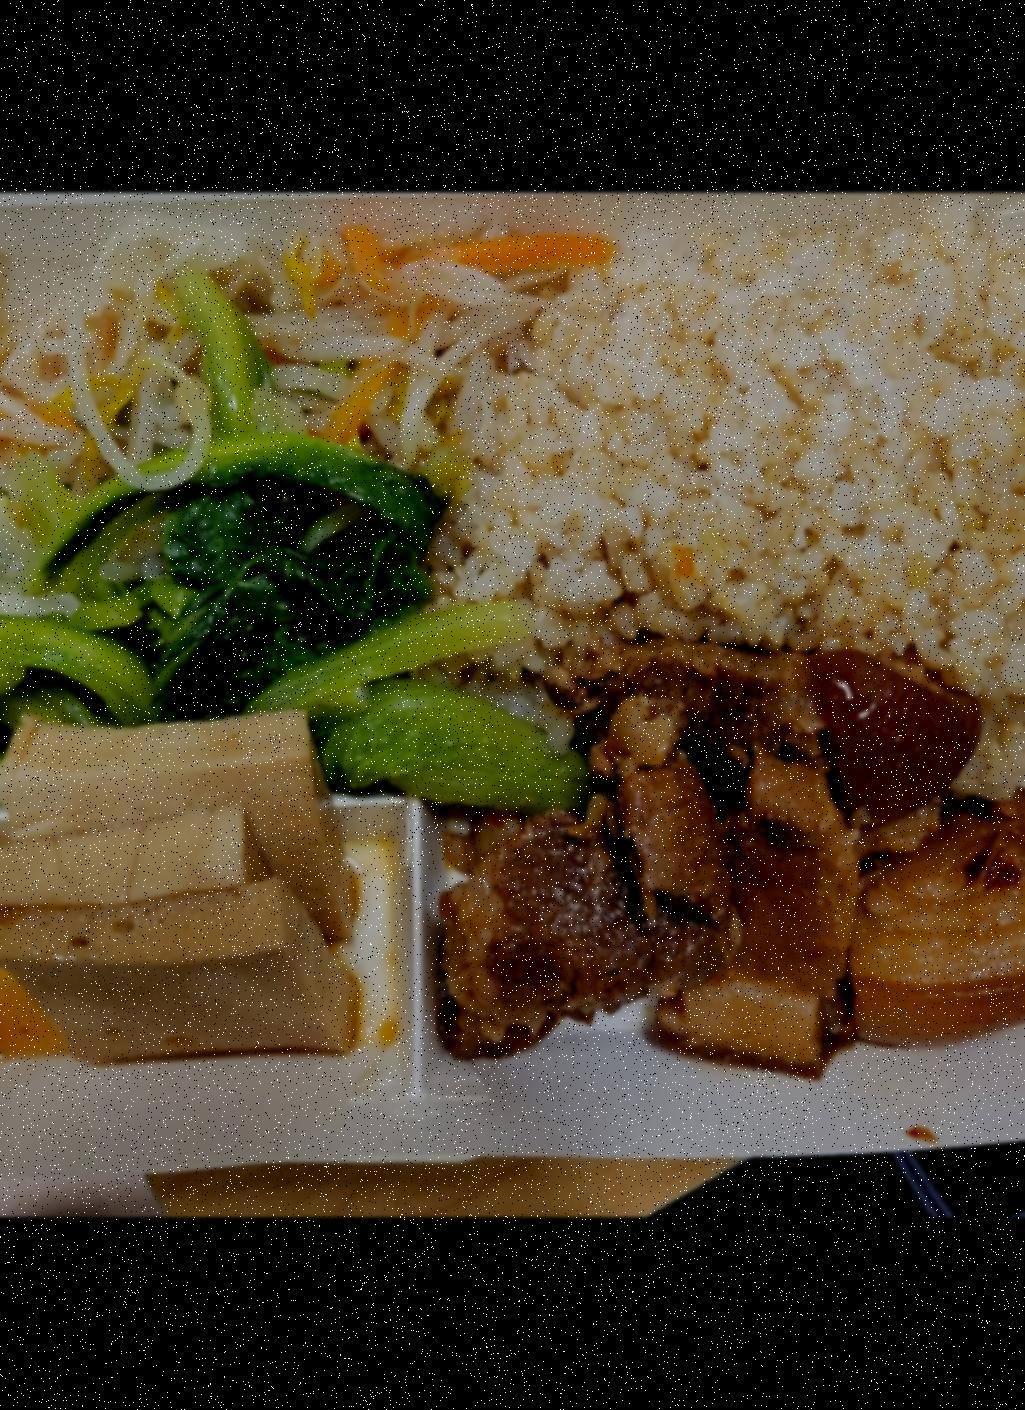box: (0, 192, 1025, 1200)
braised pork: (428, 649, 1025, 1090)
brown rice: (447, 219, 1025, 765)
side dish: (0, 456, 530, 793), (0, 705, 393, 1077), (0, 217, 520, 469)
